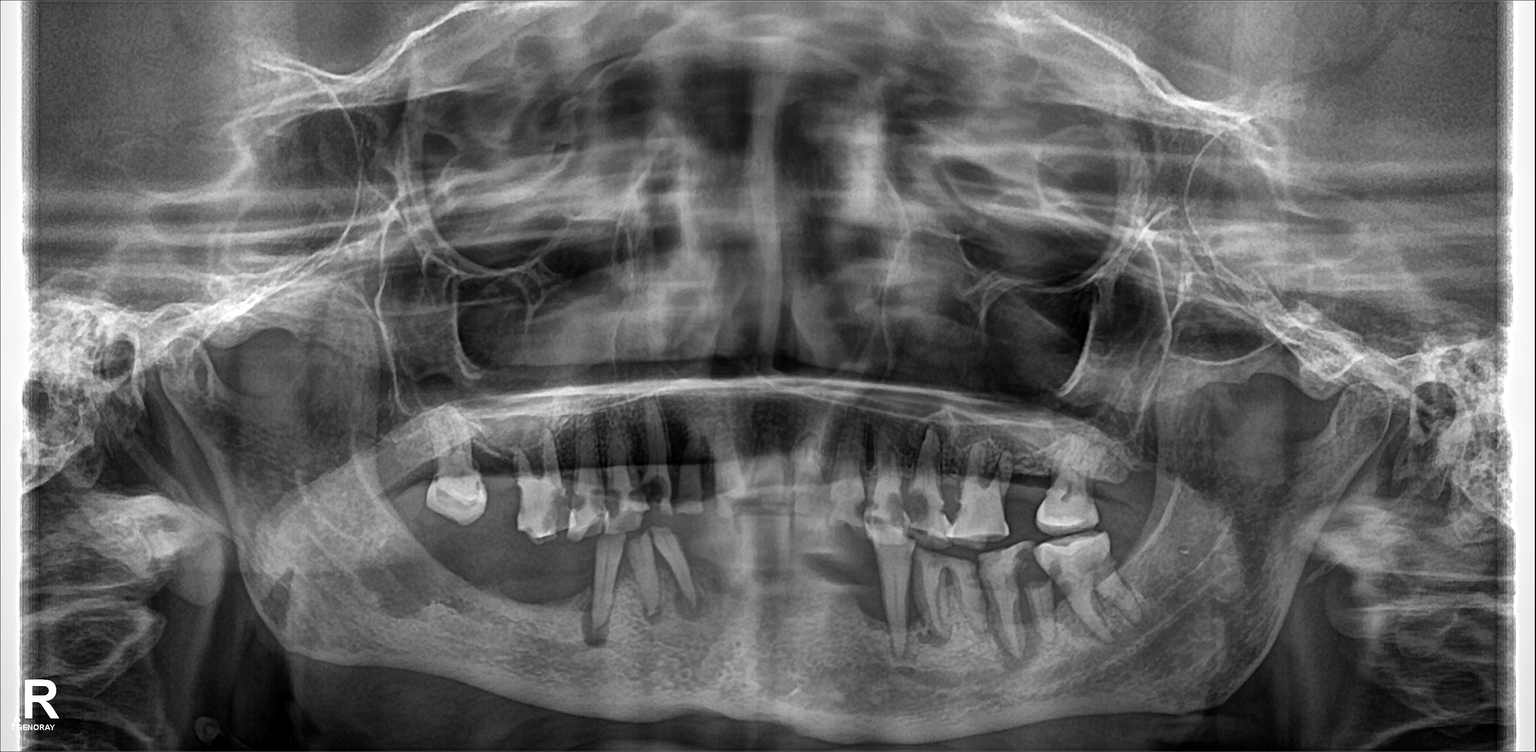Dental Caries: (1013, 551, 1049, 593), (539, 488, 569, 530), (898, 486, 928, 518), (940, 482, 964, 521), (600, 484, 624, 515), (644, 475, 666, 506)
Missing Tooth: (385, 426, 438, 514), (479, 432, 527, 523), (544, 549, 584, 645), (441, 529, 481, 623), (492, 538, 532, 630), (698, 540, 742, 614), (1102, 450, 1141, 521), (410, 529, 439, 614), (1011, 465, 1041, 532)
